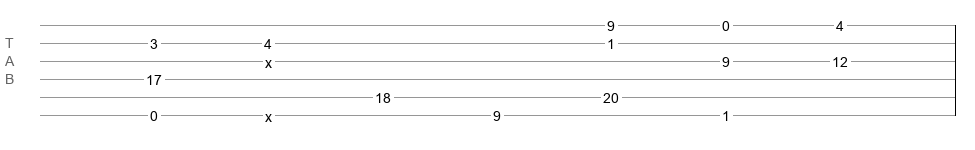0: (150, 108, 158, 118), (722, 18, 730, 28)
1: (607, 36, 615, 46), (722, 108, 730, 118)
12: (832, 54, 848, 64)
17: (146, 72, 162, 82)
18: (375, 90, 391, 100)
20: (603, 90, 619, 100)
3: (150, 36, 158, 46)
4: (264, 36, 272, 46), (836, 18, 844, 28)
9: (493, 108, 501, 118), (607, 18, 615, 28), (722, 54, 730, 64)
x: (265, 109, 272, 117), (265, 55, 272, 63)
